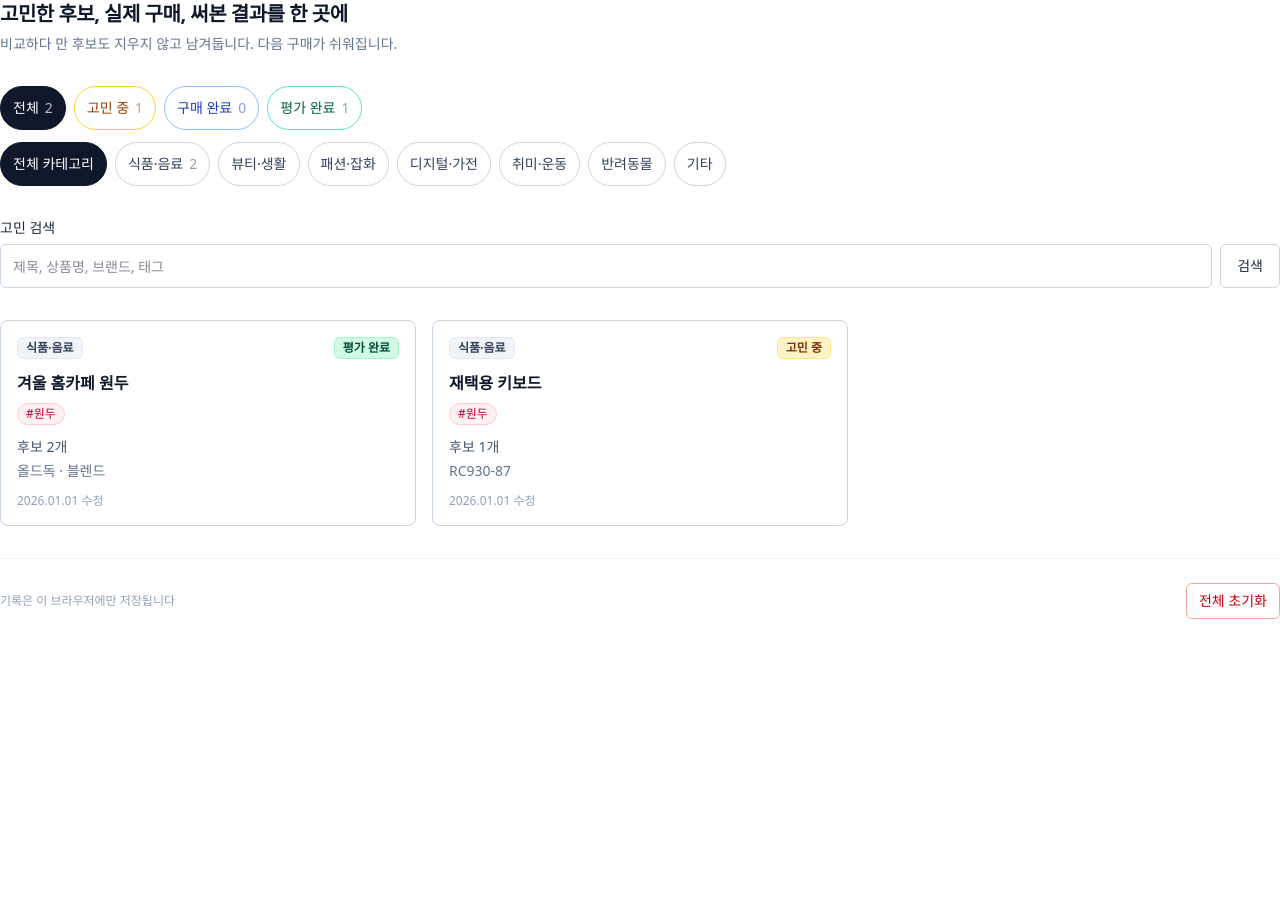
Scenario: 블록 52 — 전체 초기화 › 취소하면 아무것도 지워지지 않는다
Click the button "전체 초기화": (1233, 601) [1186,583,1279,619]
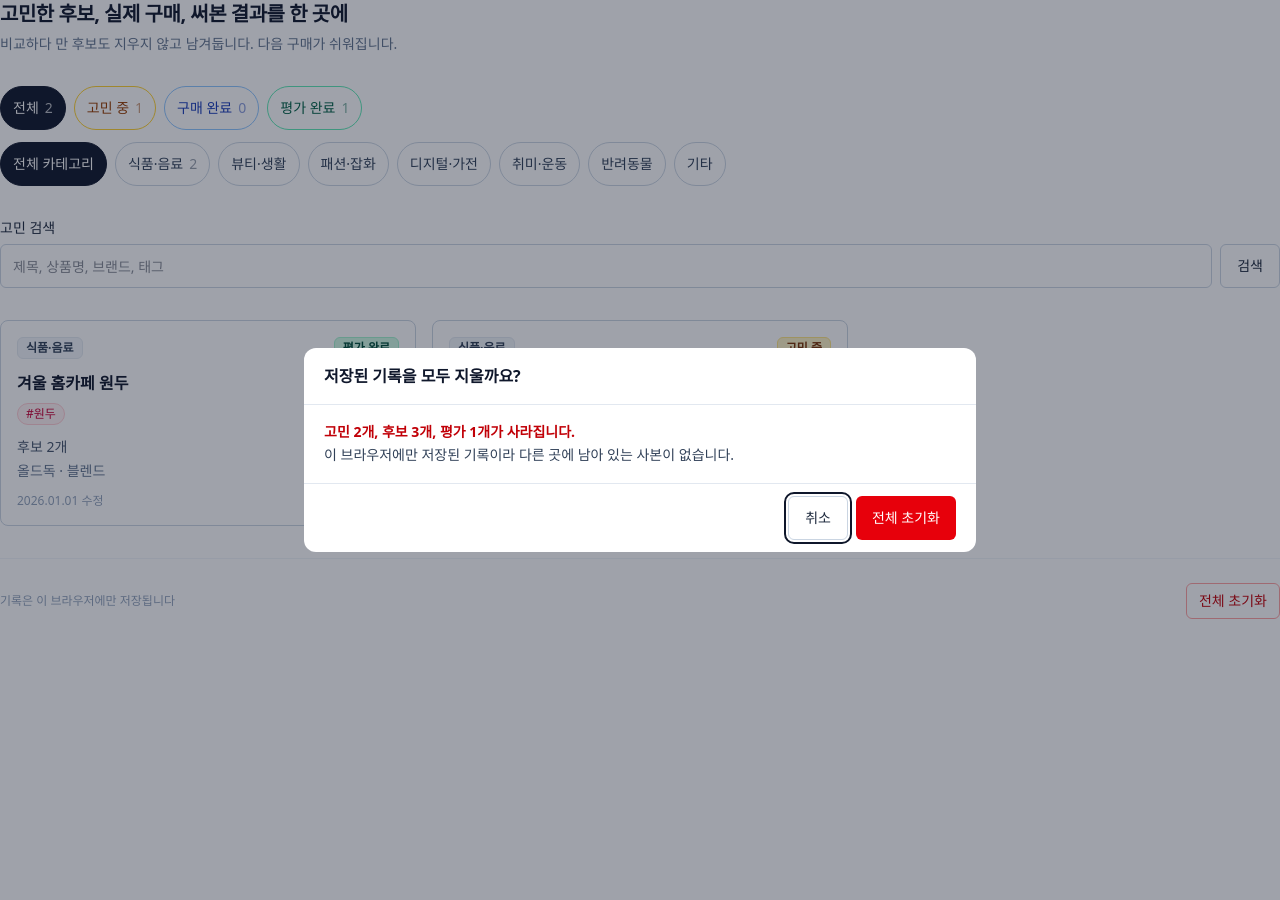
Click the button "취소": (818, 518) [788,496,848,540]
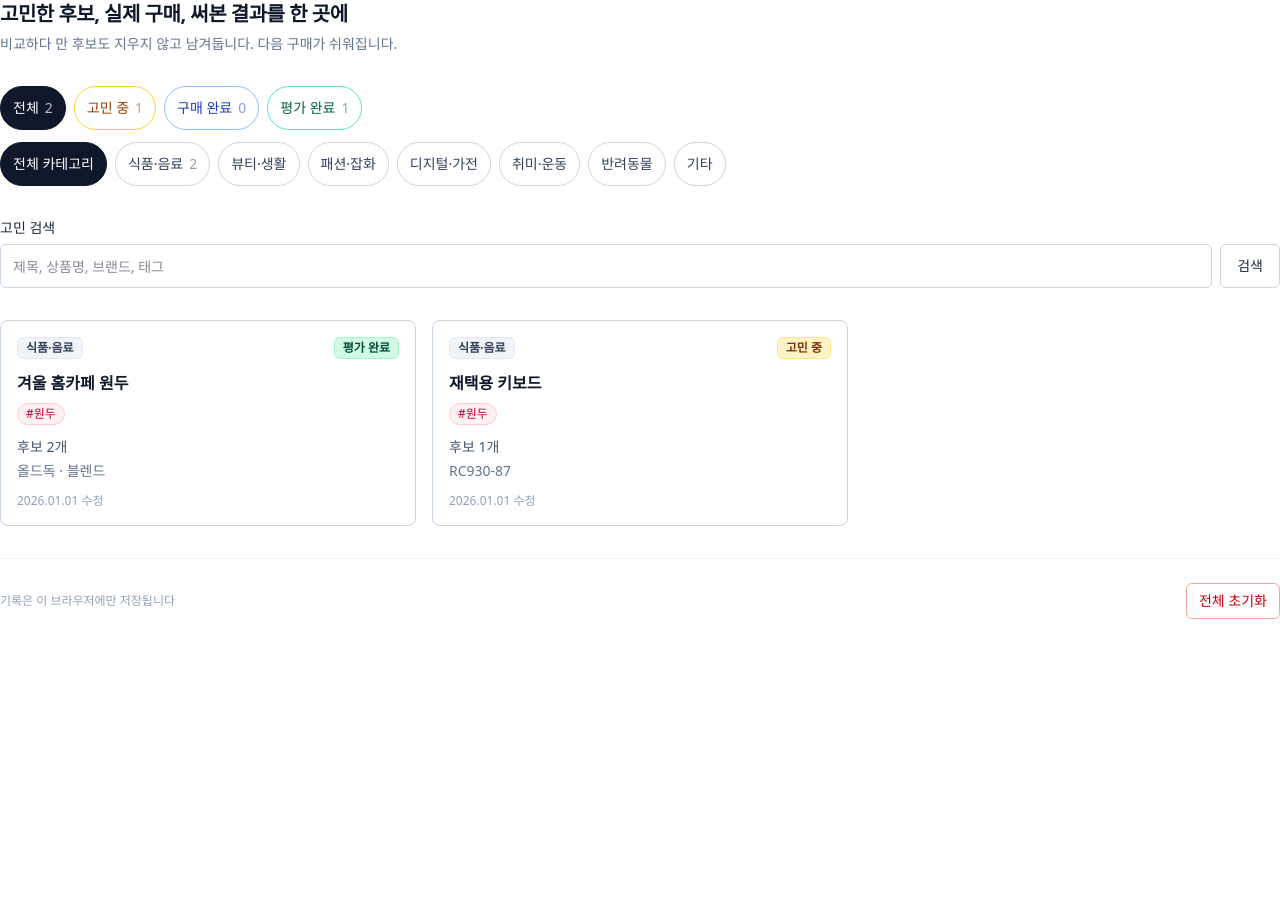
Result: the dialog is gone
